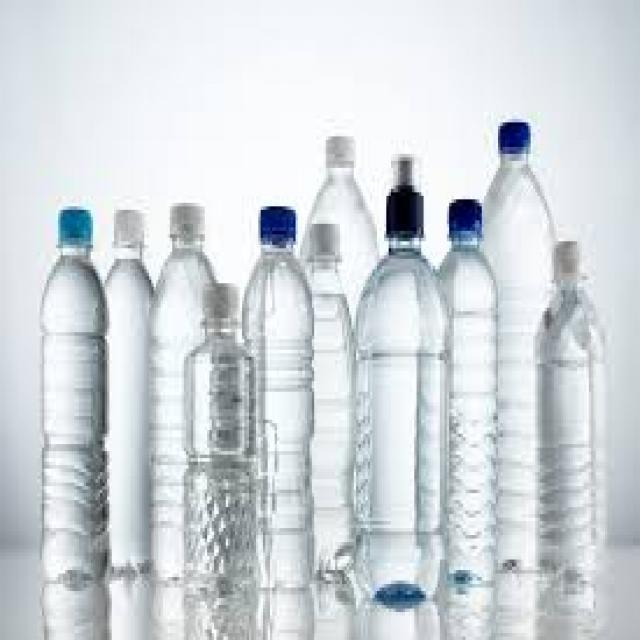Plastic: (353, 141, 451, 607), (482, 112, 558, 580), (536, 238, 607, 608), (42, 205, 110, 591), (246, 199, 312, 593), (154, 202, 218, 584), (182, 274, 254, 600), (440, 193, 498, 591), (102, 206, 160, 574), (302, 225, 358, 572), (299, 136, 378, 332)
